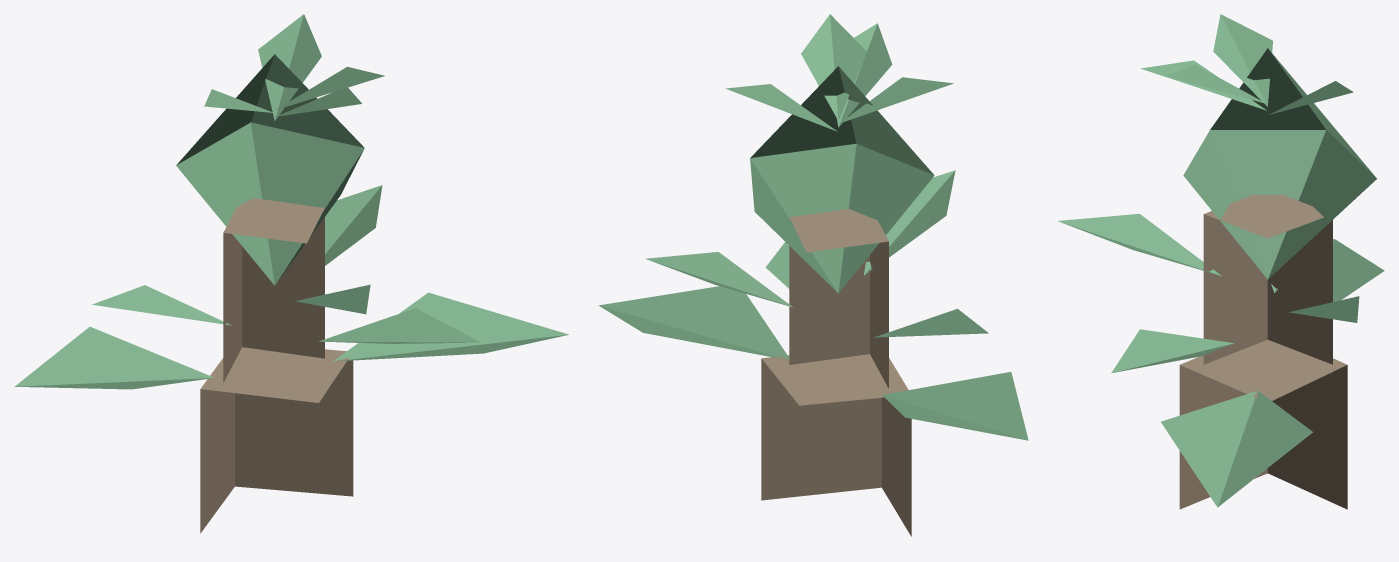
Rendered from shui.kucao@seedling__spring.glb.
The picture shows the model from 3 angles, left to right: view 1: azimuth 30°, elevation 25°; view 2: azimuth 150°, elevation 25°; view 3: azimuth 270°, elevation 25°; orthographic projection.
Visible parts, largest first — view 1: shui.kucao@seedling__spring; view 2: shui.kucao@seedling__spring; view 3: shui.kucao@seedling__spring.
Part boxes in pixels (x1,y1,x2,y2): shui.kucao@seedling__spring: [14, 14, 568, 533]; shui.kucao@seedling__spring: [598, 14, 1028, 536]; shui.kucao@seedling__spring: [1058, 14, 1384, 509].
Bounding box in the file's own units: 0.1065 × 0.0948 × 0.0609.
